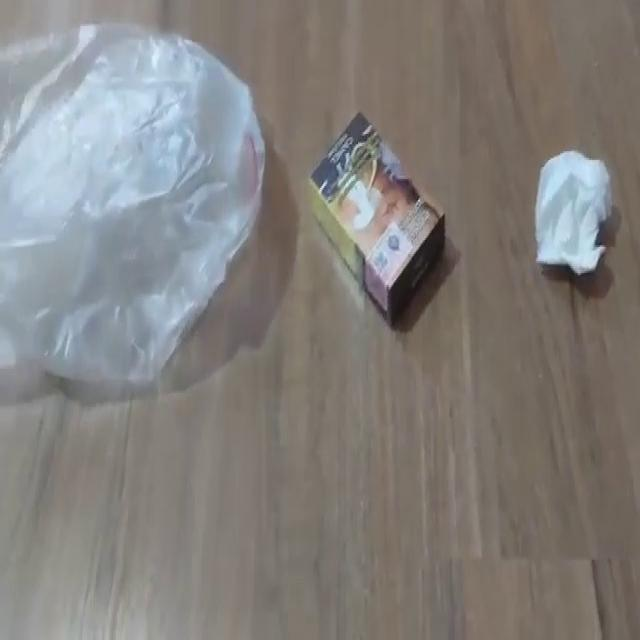Anorganik: (1, 12, 267, 390)
Organik: (306, 106, 449, 336), (532, 144, 617, 282)
